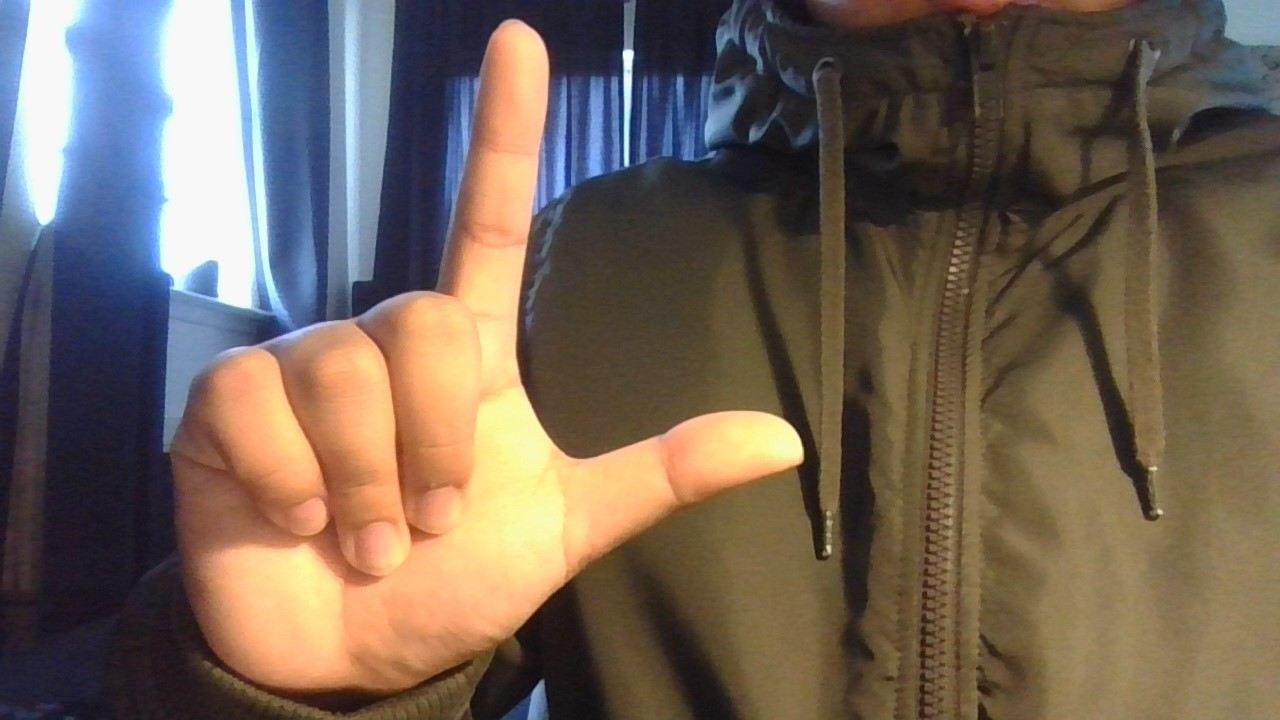l: (131, 21, 814, 692)
